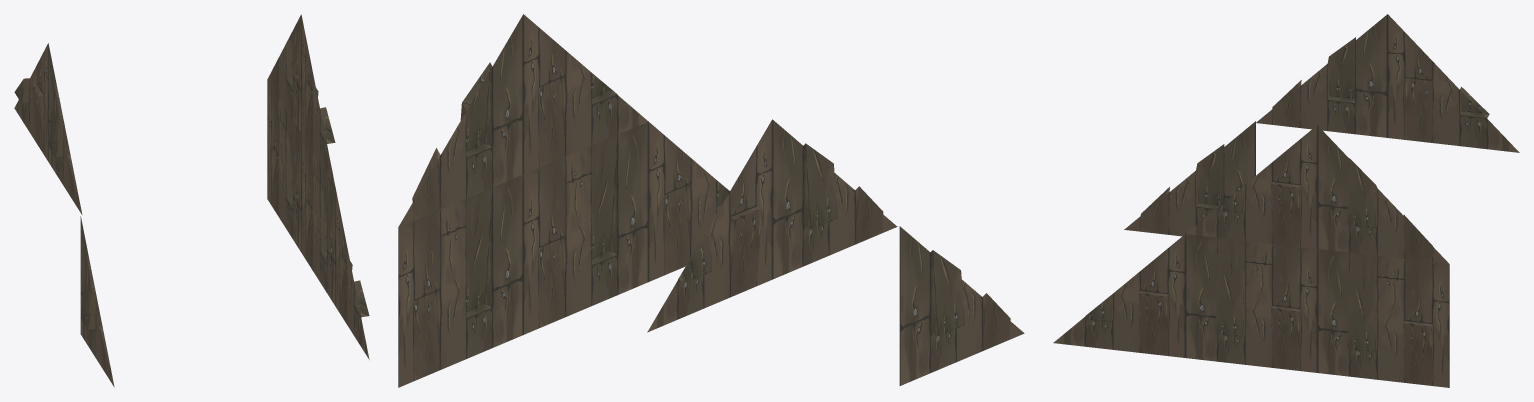
The model's file is polysurface526_mur_0_lev1_lev2.glb.
3 views of the same model, side by side, from view 1: azimuth 30°, elevation 25°; view 2: azimuth 150°, elevation 25°; view 3: azimuth 270°, elevation 25° (orthographic). The views are drawn at different scales.
Visible parts, largest first — view 1: polysurface526_mur_0_lev1_lev2; view 2: polysurface526_mur_0_lev1_lev2; view 3: polysurface526_mur_0_lev1_lev2.
Part boxes in pixels (x1=…): polysurface526_mur_0_lev1_lev2: x1=14, y1=14, x2=369, y2=387; polysurface526_mur_0_lev1_lev2: x1=398, y1=14, x2=1024, y2=387; polysurface526_mur_0_lev1_lev2: x1=1053, y1=14, x2=1519, y2=387.
Size of the model in its own units: 8.35 by 6.14 by 10.47.
Materials: 1 (1 with a texture image).
